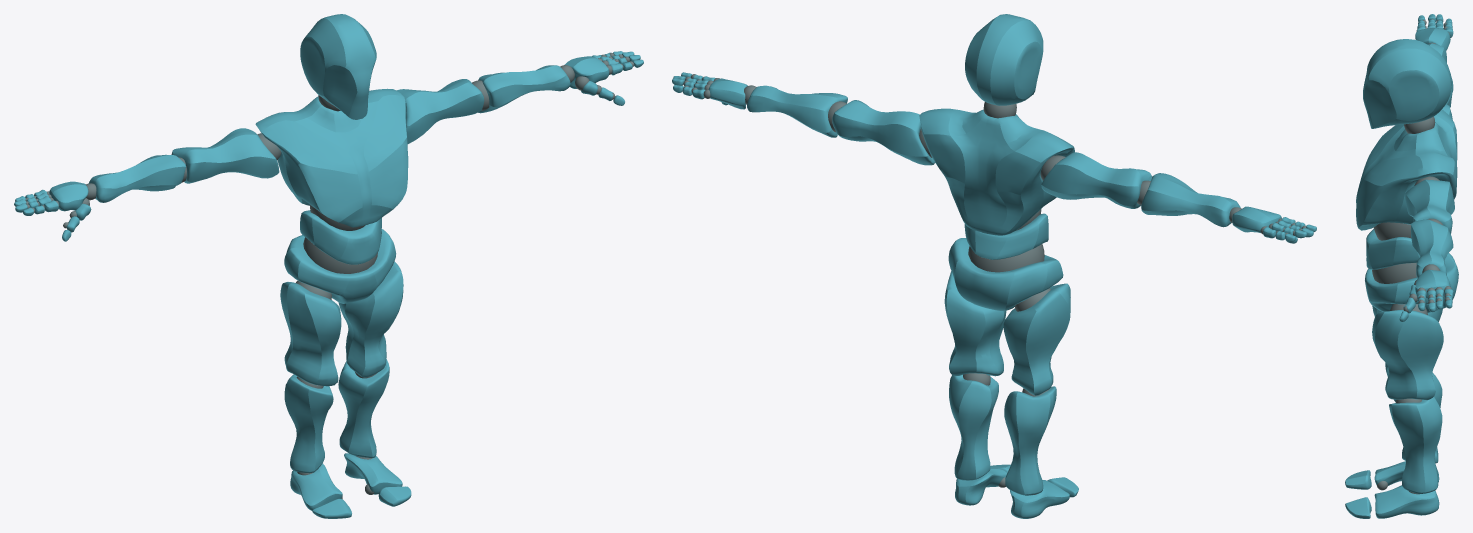
File: Brute.fbx
3 renders of one model, left to right at view 1: azimuth 30°, elevation 25°; view 2: azimuth 150°, elevation 25°; view 3: azimuth 270°, elevation 25°, orthographic. The views are drawn at different scales.
Visible parts, largest first — view 1: Alpha_Surface, Alpha_Joints; view 2: Alpha_Surface, Alpha_Joints; view 3: Alpha_Surface, Alpha_Joints.
Boxes of the visible parts, x1,y1,x2,y2 form: Alpha_Surface: (14,14,643,518); Alpha_Joints: (25,53,634,499); Alpha_Surface: (672,14,1316,518); Alpha_Joints: (683,74,1305,495); Alpha_Surface: (1345,14,1458,518); Alpha_Joints: (1372,19,1451,494).
Size of the model in its own units: 303 by 219 by 49.45.
